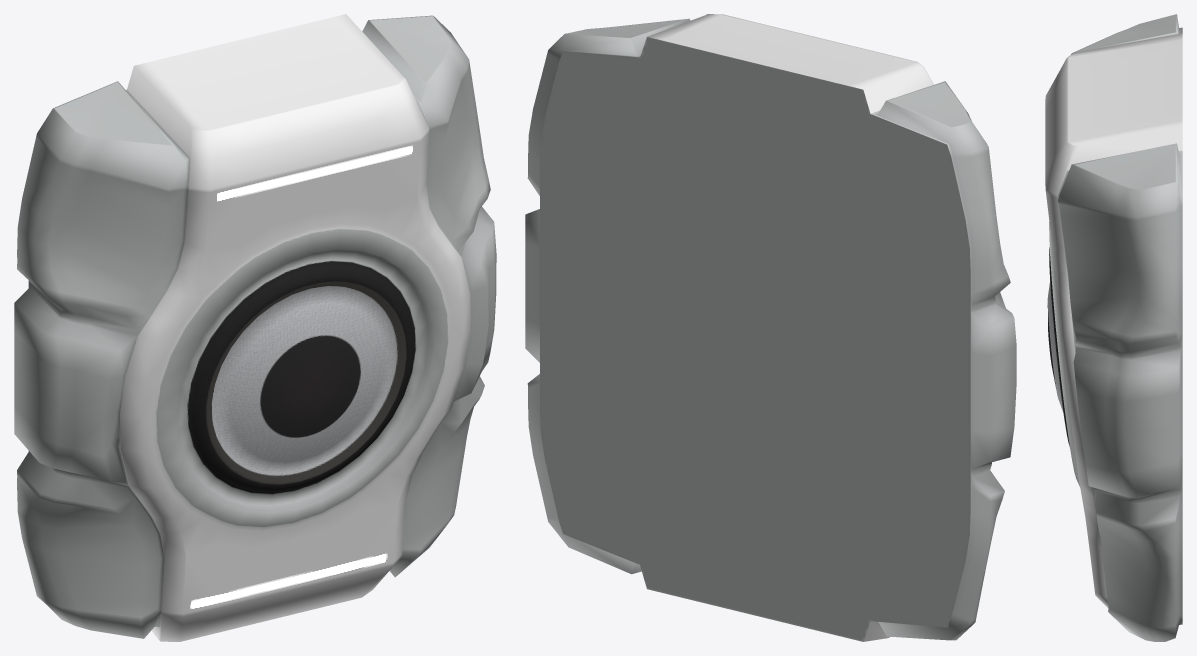
The model's file is SpeakerWall02_2.FBX.
The picture shows the model from 3 angles, left to right: view 1: azimuth 30°, elevation 25°; view 2: azimuth 150°, elevation 25°; view 3: azimuth 270°, elevation 25°; orthographic projection. The views are drawn at different scales.
Visible parts, largest first — view 1: SpeakerWall2_2; view 2: SpeakerWall2_2; view 3: SpeakerWall2_2.
Part boxes in pixels (x1,y1,x2,y2): SpeakerWall2_2: (14, 14, 496, 641); SpeakerWall2_2: (525, 14, 1016, 641); SpeakerWall2_2: (1045, 14, 1182, 641).
Size of what is drawn, in the model's own units: 0.6196 by 0.7241 by 0.178.
